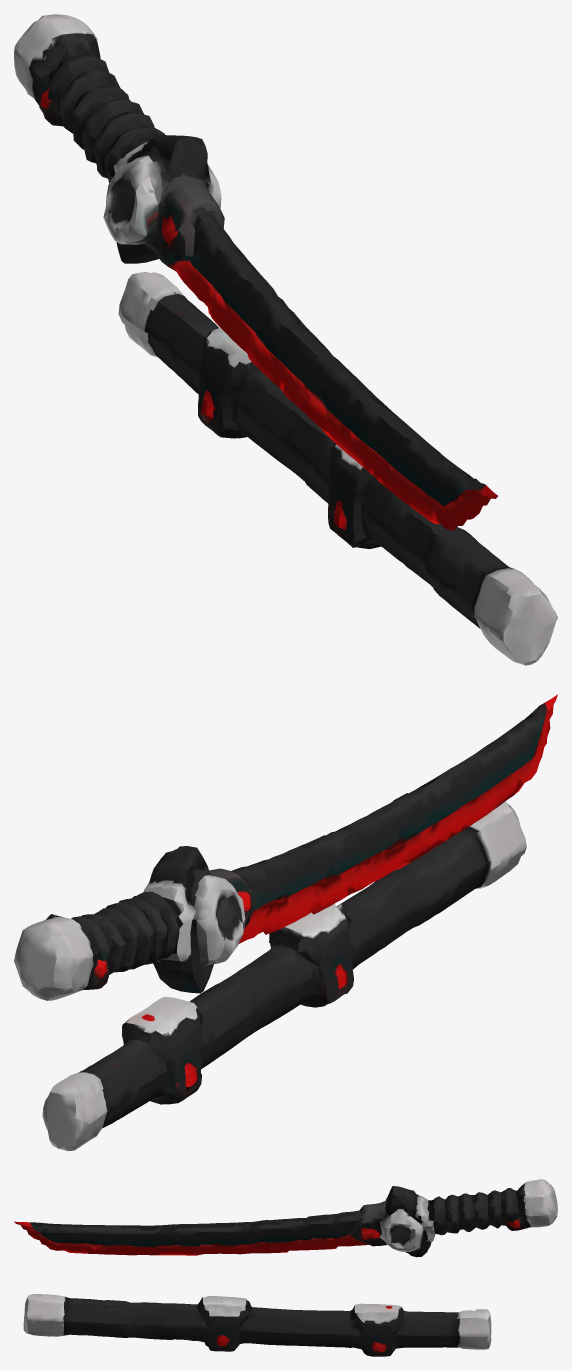
Rendered from katana.glb.
The picture shows the model from 3 angles, top to bottom: view 1: azimuth 30°, elevation 25°; view 2: azimuth 150°, elevation 25°; view 3: azimuth 270°, elevation 25°; orthographic projection. The views are drawn at different scales.
Parts seen in each view (by area): view 1: tripo_node_a082d505; view 2: tripo_node_a082d505; view 3: tripo_node_a082d505.
Part boxes in pixels (x1,y1,x2,y2): tripo_node_a082d505: [14, 14, 557, 665]; tripo_node_a082d505: [14, 694, 557, 1150]; tripo_node_a082d505: [14, 1179, 557, 1356].
Size of the model in its own units: 14.54 by 32.77 by 97.77.
1 material, 1 textured.
